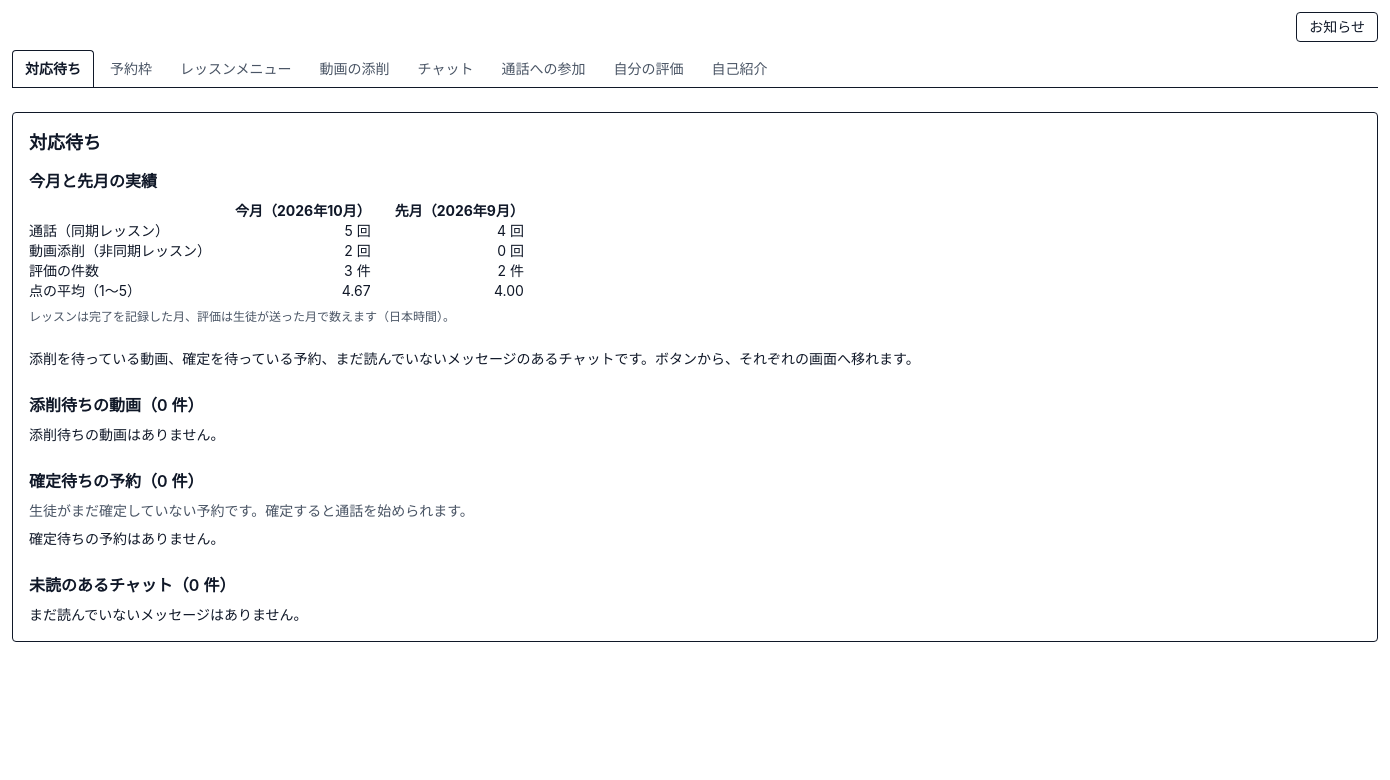
Test: コーチの今月と先月の実績 › コーチのホーム（開いたときの「対応待ち」）の上に出し、ほかのメニューでは出さない
What coordinates should you click on to do the following:
click the tab "自己紹介"
I would click on:
 (740, 68)
Its box is [700,50,780,87].
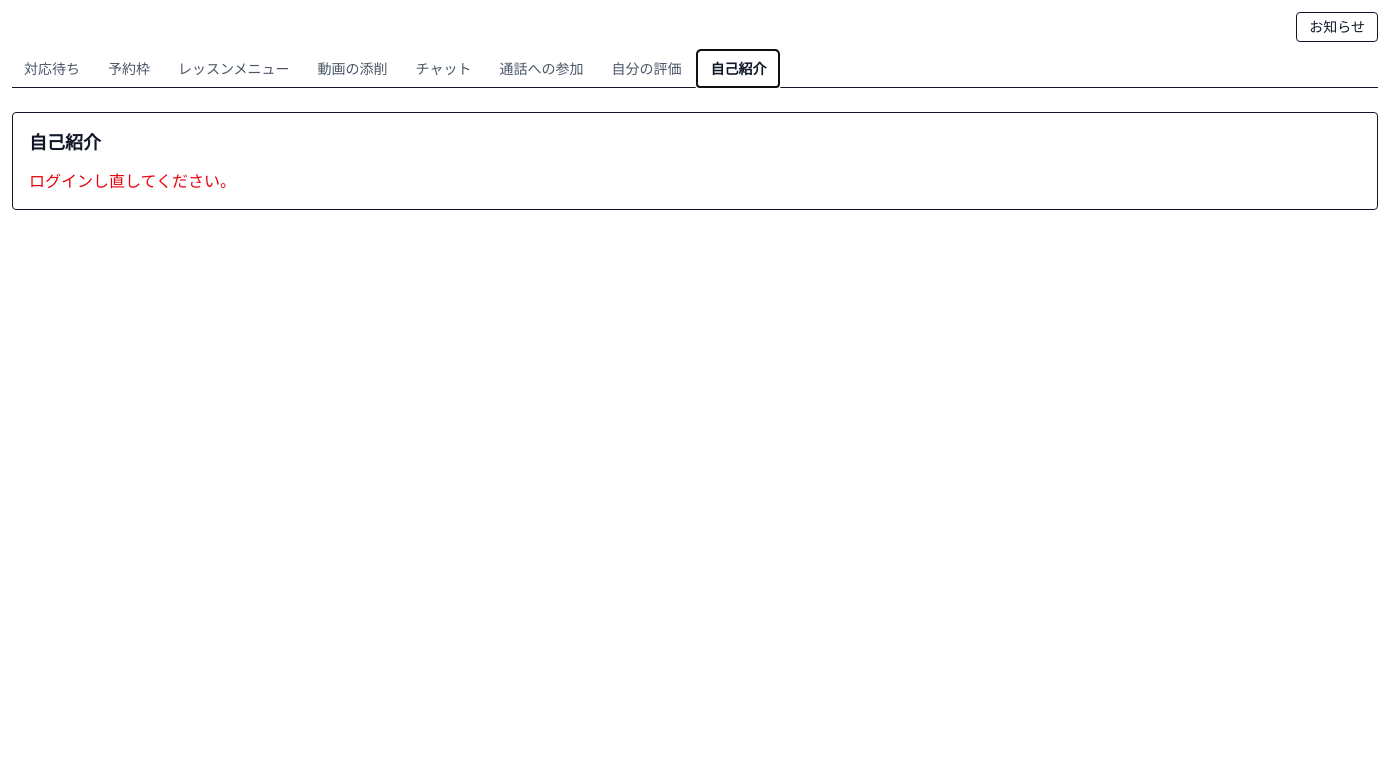
Check: the heading "今月と先月の実績" is gone
